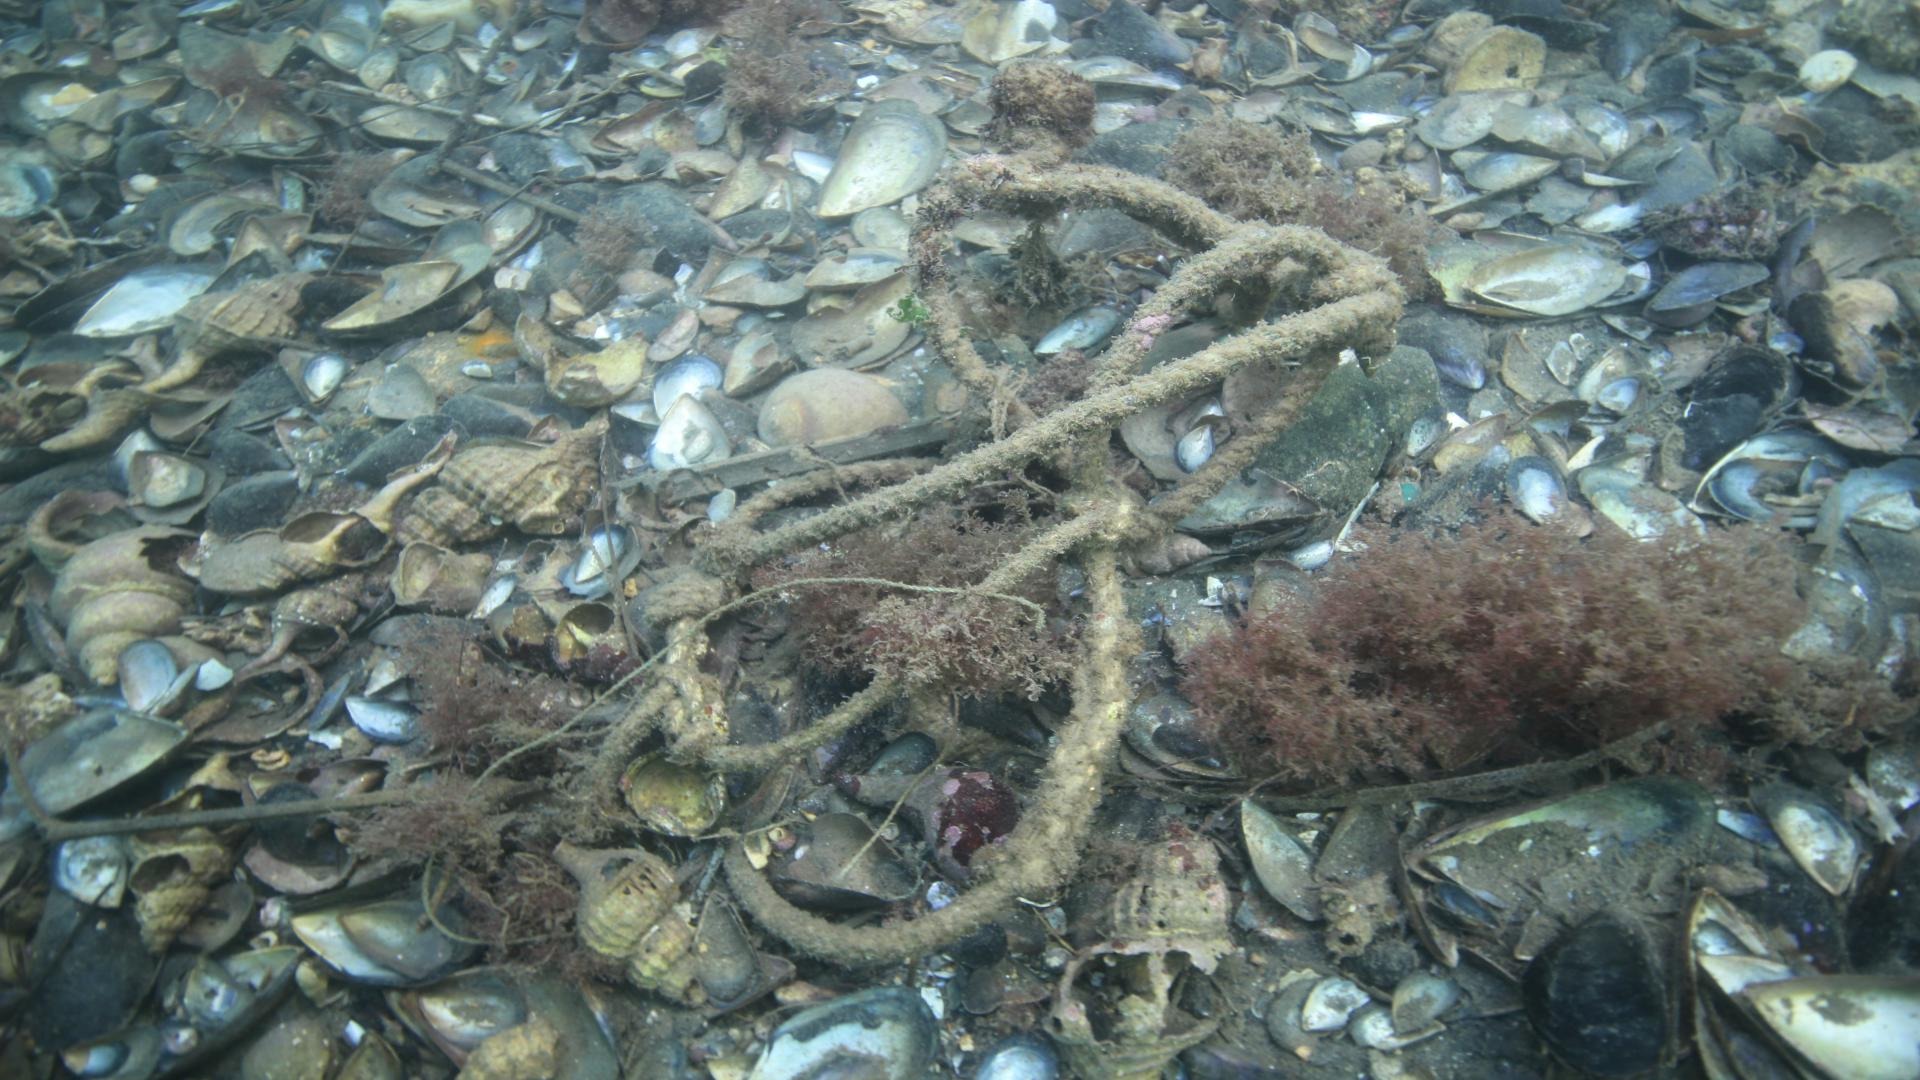bundle of ropes: (593, 149, 1406, 971)
